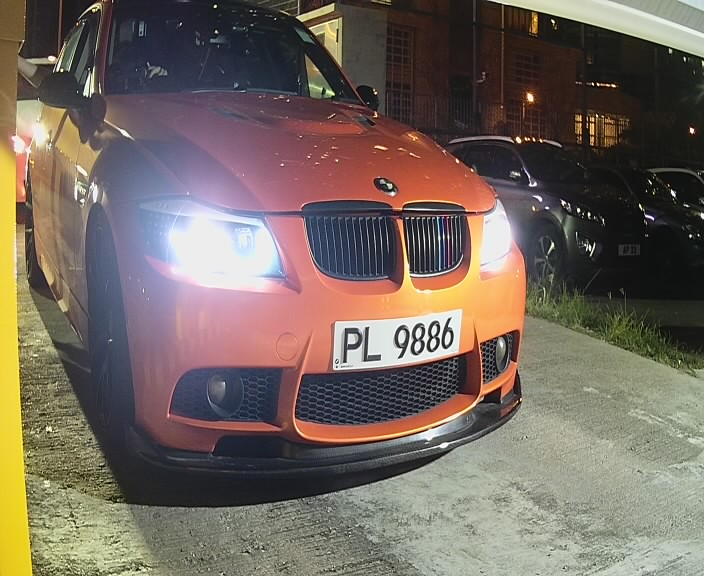Car: (2, 2, 537, 491)
License Plate: (328, 305, 472, 380)
